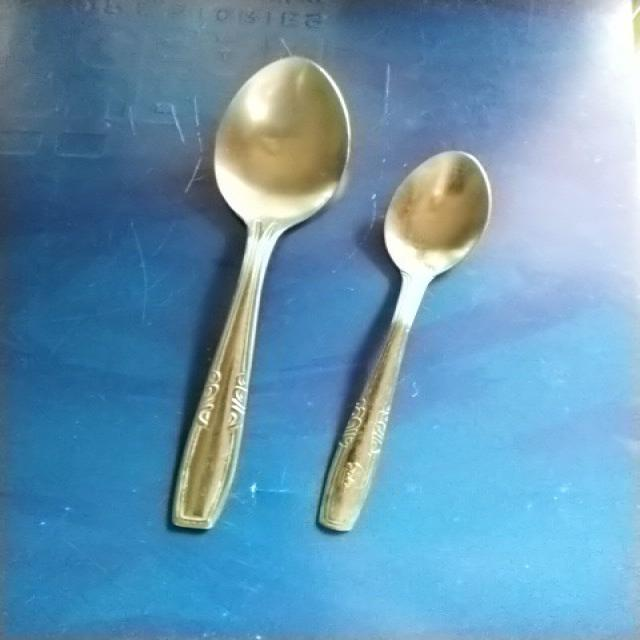spoon: (146, 42, 362, 566), (305, 135, 519, 545)
